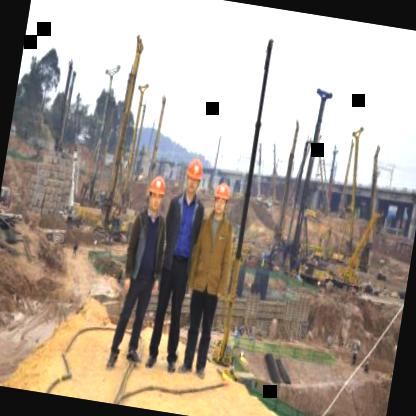helmet: (180, 156, 206, 201), (144, 172, 170, 216), (209, 180, 235, 223)
